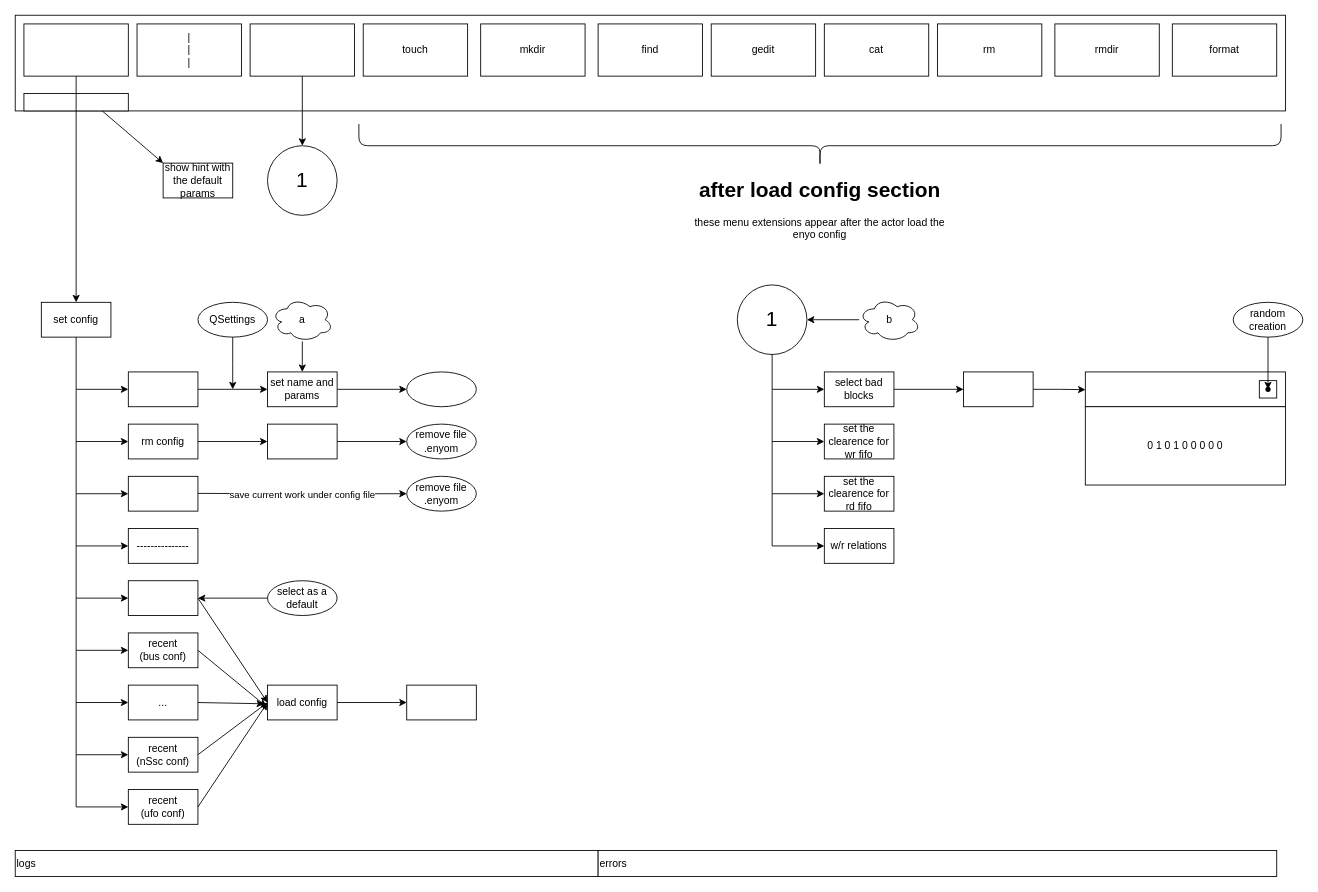
Some shapes in this 1318 by 892 pixel diagram are drawn without their labels. Here are the shapes that lost their labels. From the top down, the box of each, then its label:
(23, 23, 128, 76): enyo
(249, 23, 355, 76): external factors
(14, 14, 1285, 111): menu
(23, 93, 128, 111): current config: "name"
(127, 371, 198, 407): add new
(406, 371, 476, 407): write down file .enyom
(963, 371, 1033, 407): open window of bad blocks area
(1084, 371, 1285, 407): block set: "N-th" % "M-th"
(267, 423, 337, 459): select name
(127, 475, 198, 511): save
(127, 580, 198, 616): recent (bcd conf)
(406, 684, 476, 720): create enyo with the params
